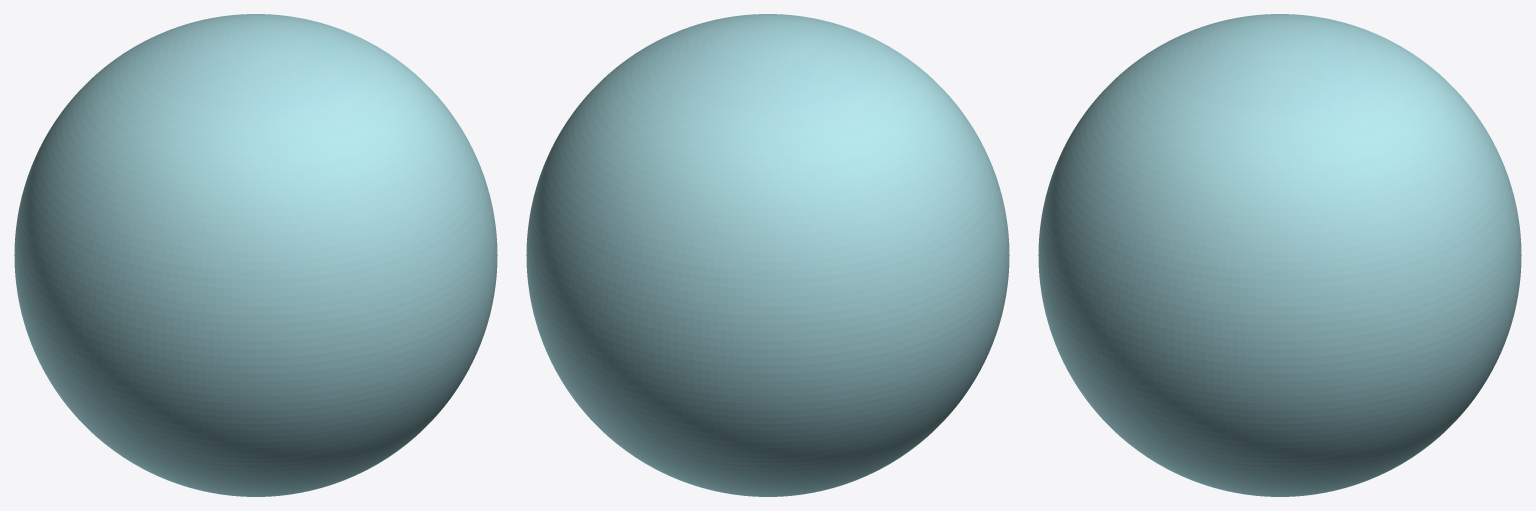
File: Urano.gltf
The picture shows the model from 3 angles, left to right: view 1: azimuth 30°, elevation 25°; view 2: azimuth 150°, elevation 25°; view 3: azimuth 270°, elevation 25°; orthographic projection.
Parts seen in each view (by area): view 1: Sphere; view 2: Sphere; view 3: Sphere.
Part boxes in pixels (x1=…): Sphere: x1=14, y1=14, x2=497, y2=496; Sphere: x1=526, y1=14, x2=1009, y2=496; Sphere: x1=1038, y1=14, x2=1521, y2=496.
Bounding box in the file's own units: 3.34 × 3.34 × 3.34.
1 material, 1 textured.
